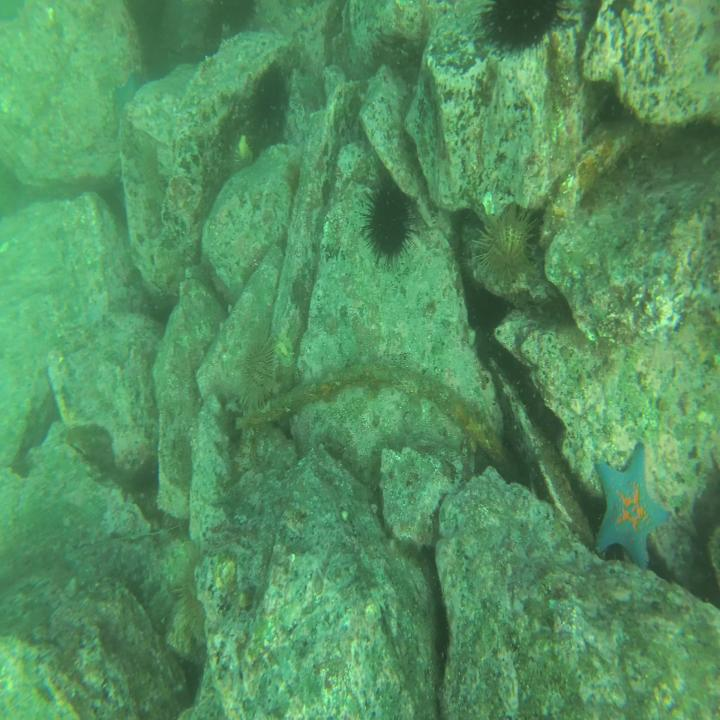echinus: (480, 208, 536, 289), (366, 181, 411, 261), (485, 1, 555, 45), (242, 338, 277, 412), (249, 61, 282, 121)
starfish: (595, 439, 669, 574), (111, 75, 140, 123)
